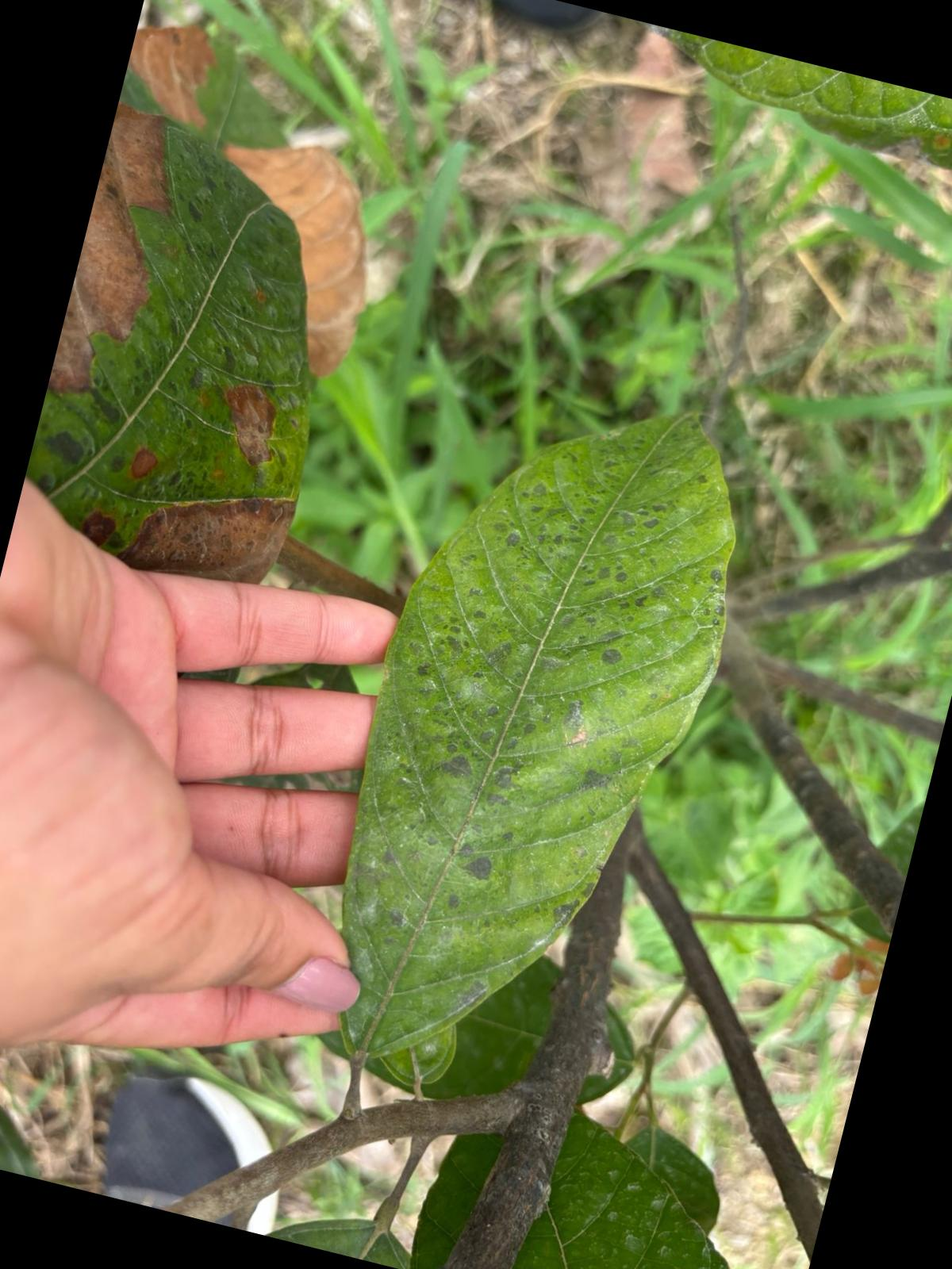Fosforo: (341, 419, 733, 1060)
